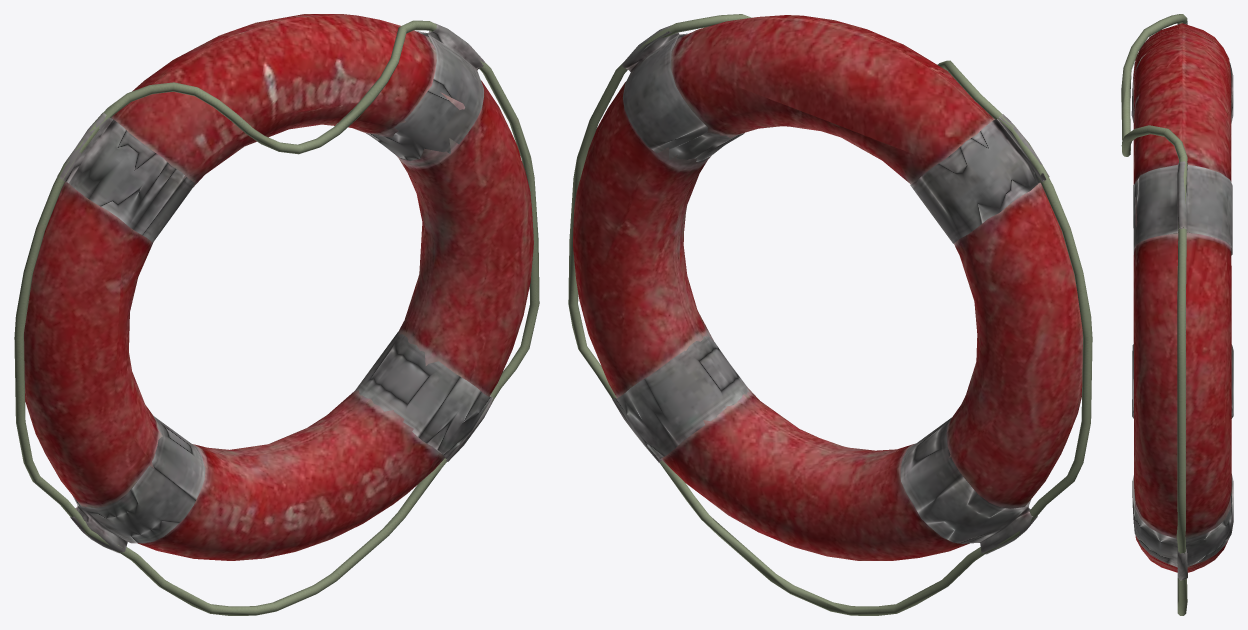
The model's file is lifebuoy.glb.
The picture shows the model from 3 angles, left to right: view 1: azimuth 30°, elevation 25°; view 2: azimuth 150°, elevation 25°; view 3: azimuth 270°, elevation 25°; orthographic projection. The views are drawn at different scales.
Visible parts, largest first — view 1: lifebuoy; view 2: lifebuoy; view 3: lifebuoy.
Boxes of the visible parts, box(x1,y1,x2,y2) form: lifebuoy: box(14, 14, 539, 615); lifebuoy: box(568, 14, 1092, 615); lifebuoy: box(1121, 14, 1233, 615).
Bounding box in the file's own units: 0.783 × 0.8412 × 0.1548.
1 material, 1 textured.
